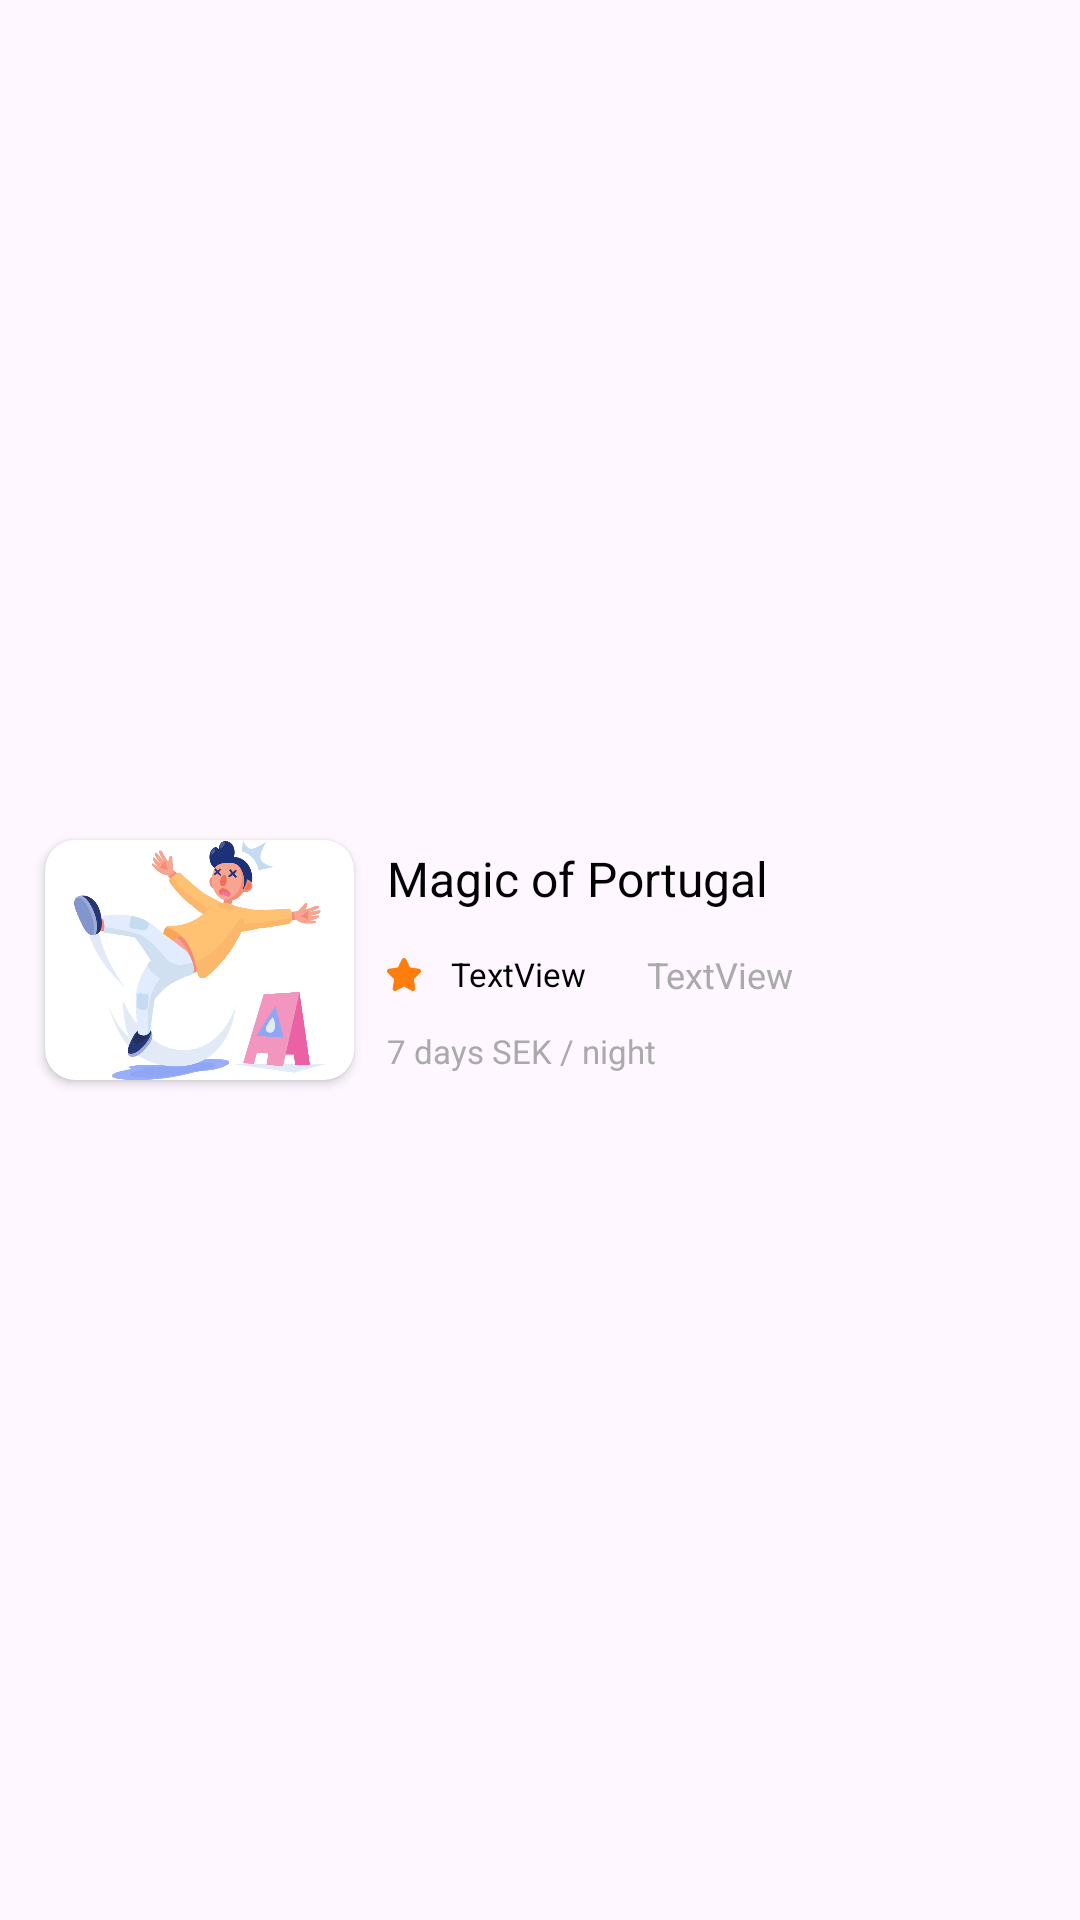

Screen size 1080px x 1920px. Icon name, then its box in pixels as (x1, y1, x2, y2):
rating star: (387, 958, 421, 991)
tour error: (45, 840, 354, 1080)
